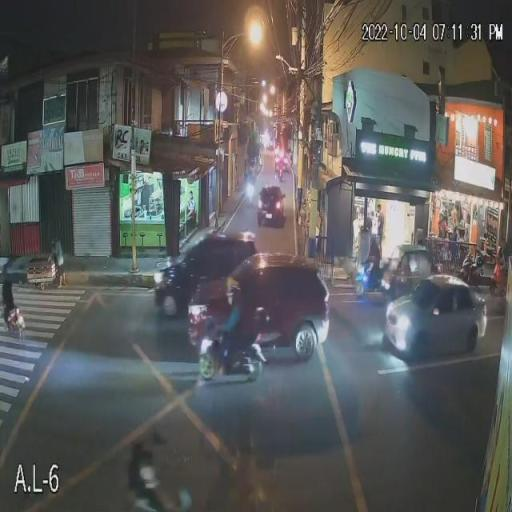helmet: (227, 279, 244, 301)
motorcycle: (193, 325, 270, 387), (0, 304, 24, 338)
rider: (220, 276, 246, 348), (0, 264, 13, 312)
